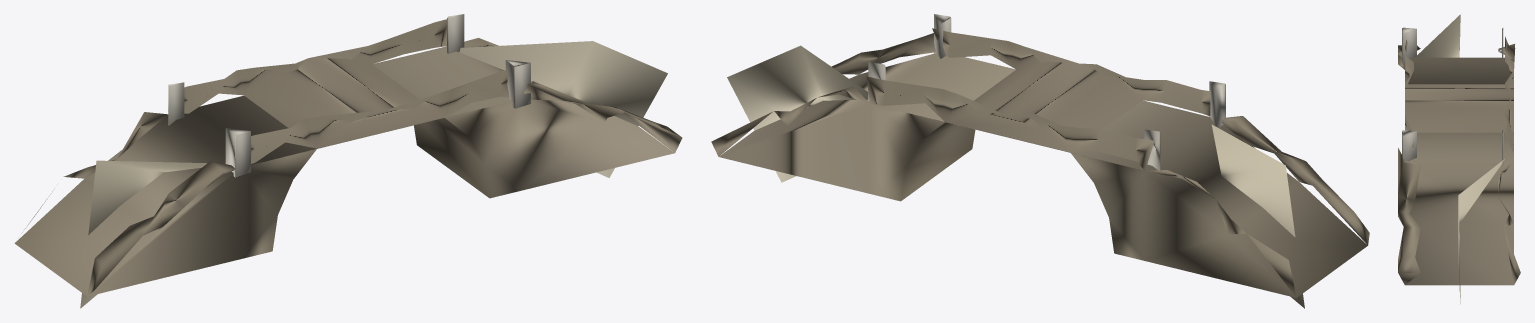
Rendered from infra_bridge.glb.
3 renders of one model, left to right at view 1: azimuth 30°, elevation 25°; view 2: azimuth 150°, elevation 25°; view 3: azimuth 270°, elevation 25°, orthographic. The views are drawn at different scales.
Visible parts, largest first — view 1: stone, paving, marble; view 2: stone, paving, marble; view 3: stone, paving, marble.
Part boxes in pixels (left/top/right/bottom): stone: left=14, top=19, right=682, bottom=296; paving: left=80, top=41, right=667, bottom=308; marble: left=168, top=14, right=530, bottom=177; stone: left=711, top=28, right=1369, bottom=297; paving: left=727, top=45, right=1304, bottom=308; marble: left=868, top=14, right=1225, bottom=170; stone: left=1398, top=36, right=1520, bottom=285; paving: left=1415, top=14, right=1504, bottom=304; marble: left=1402, top=27, right=1503, bottom=165.
Bounding box in the file's own units: 17.62 × 4.74 × 4.05.
